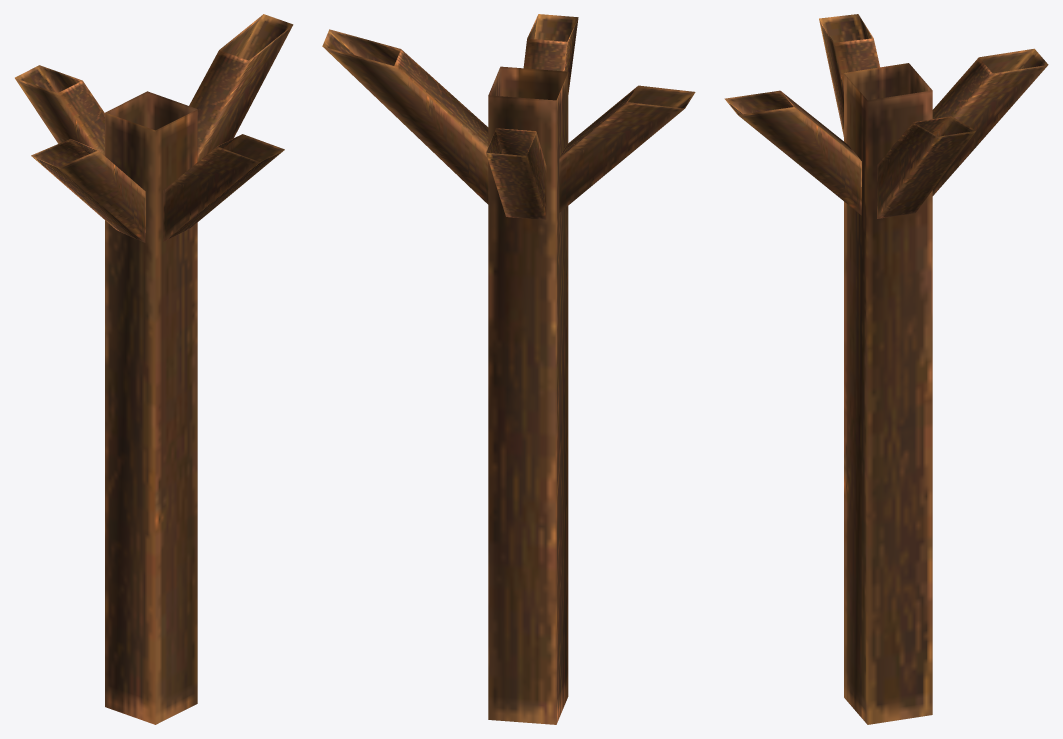
File: SWORDLIGHT20_JAILPLATSUPPORT55.fbx
3 views of the same model, side by side, from view 1: azimuth 30°, elevation 25°; view 2: azimuth 150°, elevation 25°; view 3: azimuth 270°, elevation 25° (orthographic). The views are drawn at different scales.
Parts seen in each view (by area): view 1: SWORDLIGHT20_JAILPLATSUPPORT55; view 2: SWORDLIGHT20_JAILPLATSUPPORT55; view 3: SWORDLIGHT20_JAILPLATSUPPORT55.
Part boxes in pixels (box(x1,y1,x2,y2)): SWORDLIGHT20_JAILPLATSUPPORT55: box(15, 14, 293, 724); SWORDLIGHT20_JAILPLATSUPPORT55: box(322, 14, 695, 724); SWORDLIGHT20_JAILPLATSUPPORT55: box(724, 14, 1048, 724).
Bounding box in the file's own units: 21103 × 41782 × 18759.
1 material, 1 textured.
